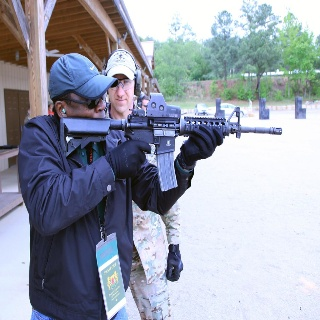rifle: (58, 90, 283, 196)
